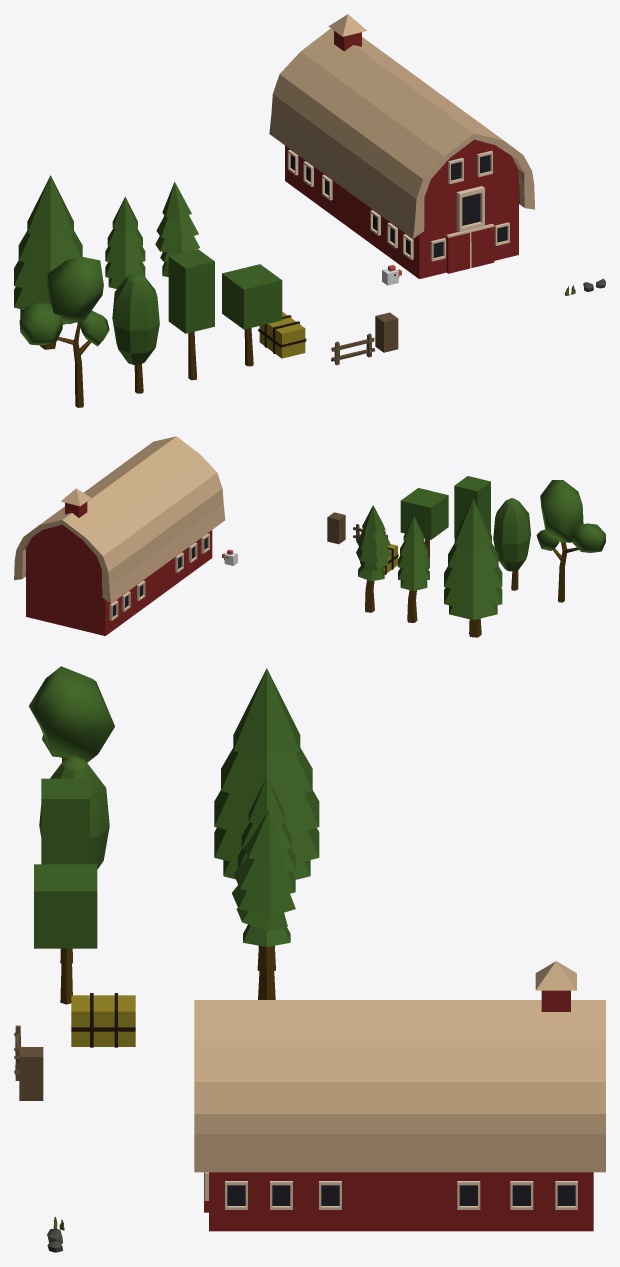
Rendered from MapAsset.fbx.
3 views of the same model, one above another, from view 1: azimuth 30°, elevation 25°; view 2: azimuth 150°, elevation 25°; view 3: azimuth 270°, elevation 25° (orthographic). The views are drawn at different scales.
Parts seen in each view (by area): view 1: pCube1, pCube35, pCylinder43, pCube32, pSolid4, pCube9, pCylinder35, pCylinder36, Hay, pSolid2, pCube4, pCylinder37 (+10 smaller); view 2: pCube1, pCylinder43, pSolid4, pCube32, pCube35, pCylinder37, pCylinder36, pCylinder35, pCylinder38, pSolid2, pCylinder31, pCylinder39 (+13 smaller); view 3: pCube1, pSolid4, pCube32, pCube35, pCylinder35, pCylinder36, Hay, pCylinder37, pCylinder43, pCylinder31, pCylinder38, pCylinder32 (+6 smaller).
Part boxes in pixels (left/top/right/bottom): pCube1: left=269, top=28, right=534, bottom=278; pCube35: left=168, top=249, right=214, bottom=333; pCylinder43: left=112, top=272, right=159, bottom=364; pCube32: left=222, top=264, right=282, bottom=329; pSolid4: left=46, top=256, right=103, bottom=324; pCube9: left=446, top=223, right=494, bottom=273; pCylinder35: left=27, top=175, right=73, bottom=238; pCylinder36: left=18, top=231, right=82, bottom=268; Hay: left=258, top=312, right=306, bottom=358; pSolid2: left=19, top=303, right=62, bottom=345; pCube4: left=456, top=186, right=484, bottom=232; pCylinder37: left=14, top=260, right=55, bottom=293; pCube1: left=14, top=436, right=225, bottom=635; pCylinder43: left=493, top=498, right=530, bottom=571; pSolid4: left=540, top=480, right=583, bottom=542; pCube32: left=400, top=488, right=448, bottom=539; pCube35: left=454, top=476, right=490, bottom=537; pCylinder37: left=444, top=566, right=502, bottom=593; pCylinder36: left=448, top=543, right=498, bottom=573; pCylinder35: left=454, top=499, right=491, bottom=549; pCylinder38: left=444, top=587, right=502, bottom=611; pSolid2: left=572, top=523, right=605, bottom=552; pCylinder31: left=357, top=529, right=390, bottom=551; pCylinder39: left=449, top=605, right=497, bottom=620; pCube1: left=194, top=1000, right=605, bottom=1231; pSolid4: left=29, top=666, right=114, bottom=762; pCube32: left=34, top=864, right=97, bottom=948; pCube35: left=41, top=778, right=89, bottom=864; pCylinder35: left=233, top=668, right=300, bottom=759; pCylinder36: left=221, top=748, right=312, bottom=799; Hay: left=71, top=993, right=135, bottom=1047; pCylinder37: left=214, top=790, right=319, bottom=833; pCylinder43: left=39, top=756, right=109, bottom=869; pCylinder31: left=233, top=857, right=294, bottom=896; pCylinder38: left=214, top=827, right=319, bottom=863; pCylinder32: left=243, top=809, right=285, bottom=862.
Size of the model in its own units: 3964 by 1146 by 2455.
